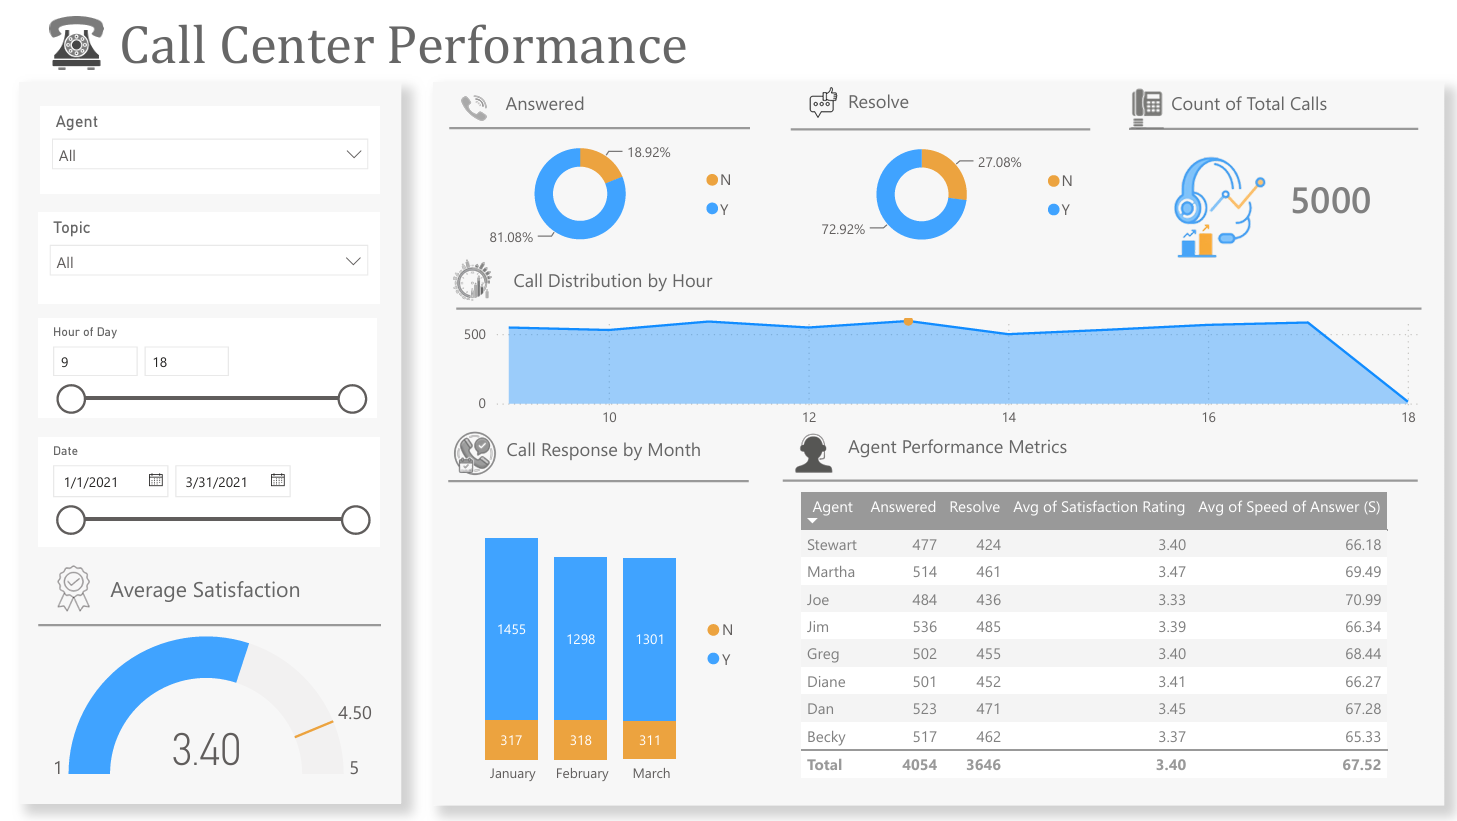

The page's visual inventory and layout, read from the dashboard file:
{"tool":"powerbi","page":{"name":"Page 1","canvas":[1280,720],"ordinal":0},"visuals":[{"type":"shape","box":[382.5,68.8,885,632.5],"z":0},{"type":"shape","box":[21.4,68.6,334.3,631.4],"z":1000},{"type":"slicer","fields":{"Values":["Sheet1.Agent"]},"box":[38.6,90,297.1,77.1],"z":2000},{"type":"slicer","fields":{"Values":["Sheet1.Topic"]},"box":[37.1,182.9,298.6,80],"z":3000},{"type":"slicer","fields":{"Values":["Sheet1.Date"]},"box":[37,380,299,96],"z":4000},{"type":"gauge","fields":{"Y":["Avg(Sheet1.Satisfaction rating)"],"MaxValue":["Max(Sheet1.Satisfaction rating)"],"MinValue":["Min(Sheet1.Satisfaction rating)"],"TargetValue":["Sheet1.Target Satifaction"]},"box":[40,536.2,298.8,161.2],"z":5000},{"type":"donutChart","fields":{"Y":["Call Center Performance.Call Unanswered","Call Center Performance.Call Answered"]},"box":[397.3,110,261.8,112.7],"z":6000},{"type":"donutChart","fields":{"Y":["Call Center Performance.Call Unresolve","Call Center Performance.Call Resolve"]},"box":[696.4,110.9,261.8,111.8],"z":7000},{"type":"slicer","fields":{"Values":["Call Center Performance.Hour of Day"]},"box":[37.1,275.7,295.7,87.1],"z":8000},{"type":"cardVisual","fields":{"Data":["Call Center Performance.Total Calls"]},"box":[1100,113.8,137.5,108.8],"z":9000},{"type":"columnChart","fields":{"Category":["Call Center Performance.Date.Variation.Date Hierarchy.Month"],"Y":["Call Center Performance.Call Unanswered","Call Center Performance.Call Answered"]},"box":[398.6,428.6,261.4,262.9],"z":10000},{"type":"tableEx","fields":{"Values":["Call Center Performance.Agent","Call Center Performance.Call Answered","Call Center Performance.Call Resolve","Avg(Call Center Performance.Satisfaction rating)","Avg(Call Center Performance.Speed of answer in seconds)"]},"box":[698.6,422.9,538.6,268.6],"z":11000},{"type":"shape","box":[36.7,538.9,300,10],"z":12000},{"type":"textbox","box":[82.5,493.8,188.8,38.8],"z":13000},{"type":"shape","box":[397,104,263,10],"z":14000},{"type":"shape","box":[696.2,105,261.9,10],"z":15000},{"type":"shape","box":[395.7,412.9,262.9,10],"z":16000},{"type":"shape","box":[992,104,253,11],"z":17000},{"type":"shape","box":[403,258,845,18],"z":18000},{"type":"shape","box":[688.7,403.5,555.7,27.1],"z":19000},{"type":"areaChart","fields":{"Category":["Call Center Performance.Hour of Day"],"Y":["Call Center Performance.Total Calls","Call Center Performance.Max Hour Highlight"]},"box":[404,263,847,117],"z":20000},{"type":"textbox","box":[441.2,71.2,106.2,36.2],"z":21000},{"type":"textbox","box":[741.2,68.8,83.1,40],"z":22000},{"type":"textbox","box":[1023.8,70.6,169.4,35],"z":23000},{"type":"textbox","box":[448,226,192,37],"z":24000},{"type":"textbox","box":[442,374,181,37],"z":25000},{"type":"textbox","box":[102.9,5.7,1147.1,67.1],"z":26000},{"type":"textbox","box":[740.9,370.9,205.5,40],"z":27000},{"type":"image","box":[958.8,112.5,222.5,128.8],"z":28000},{"type":"image","box":[390.9,72.7,54.5,37.3],"z":29000},{"type":"image","box":[21.2,470,93.8,83.8],"z":30000},{"type":"image","box":[0,11.4,141.4,47.1],"z":31000},{"type":"image","box":[696,69,57,35],"z":32000},{"type":"image","box":[972,73.2,61.2,42],"z":33000},{"type":"image","box":[366.4,222.7,102.7,38.2],"z":34000},{"type":"image","box":[396,373,45,40],"z":35000},{"type":"image","box":[688.7,375.3,54.1,37.2],"z":36000}]}

Visuals, with their boxes in screenshot pixels (x1, y1, x2, y2), scaled from the page's 1280x720 canvas onto the 1457x821 screenshot:
shape: [435,78,1443,800]
shape: [24,78,405,798]
slicer - Sheet1.Agent: [44,103,382,191]
slicer - Sheet1.Topic: [42,209,382,300]
slicer - Sheet1.Date: [42,433,382,543]
gauge - Avg(Sheet1.Satisfaction rating) x Max(Sheet1.Satisfaction rating): [46,611,386,795]
donutChart - Call Center Performance.Call Unanswered x Call Center Performance.Call Answered: [452,125,750,254]
donutChart - Call Center Performance.Call Unresolve x Call Center Performance.Call Resolve: [793,126,1091,254]
slicer - Call Center Performance.Hour of Day: [42,314,379,414]
cardVisual - Call Center Performance.Total Calls: [1252,130,1409,254]
columnChart - Call Center Performance.Date.Variation.Date Hierarchy.Month x Call Center Performance.Call Unanswered: [454,489,751,789]
tableEx - Call Center Performance.Agent x Call Center Performance.Call Answered: [795,482,1408,789]
shape: [42,614,383,626]
textbox: [94,563,309,607]
shape: [452,119,751,130]
shape: [792,120,1091,131]
shape: [450,471,750,482]
shape: [1129,119,1417,131]
shape: [459,294,1421,315]
shape: [784,460,1416,491]
areaChart - Call Center Performance.Hour of Day x Call Center Performance.Total Calls: [460,300,1424,433]
textbox: [502,81,623,122]
textbox: [844,78,938,124]
textbox: [1165,81,1358,120]
textbox: [510,258,728,300]
textbox: [503,426,709,469]
textbox: [117,6,1423,83]
textbox: [843,423,1077,469]
image: [1091,128,1345,275]
image: [445,83,507,125]
image: [24,536,131,631]
image: [0,13,161,67]
image: [792,79,857,119]
image: [1106,83,1176,131]
image: [417,254,534,297]
image: [451,425,502,471]
image: [784,428,846,470]
